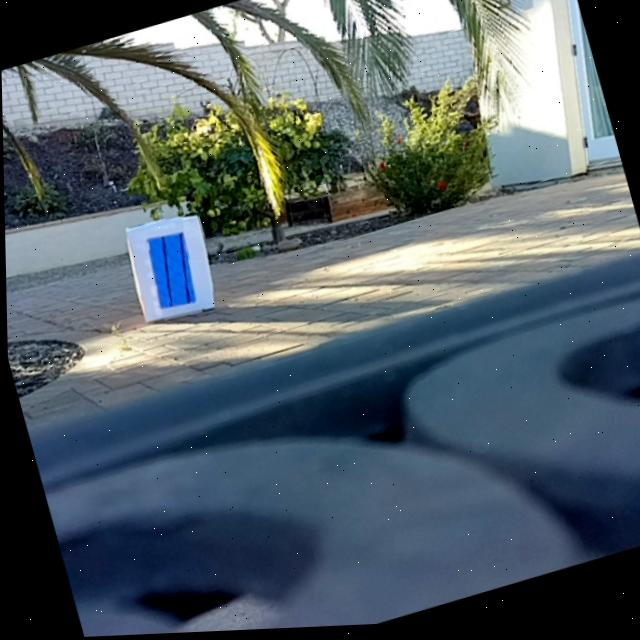led: (141, 231, 198, 312)
